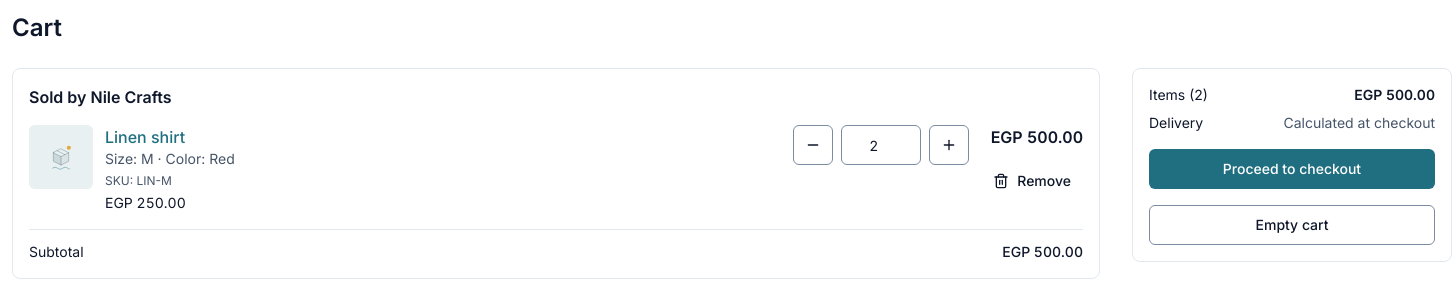
Test case: cart page (spec 01 SF-06) › quantity changes are saved once, 500 ms after the last click
Step 1. Click the button named "Increase quantity, Linen shirt" → (949, 145), box [929,125,969,165]
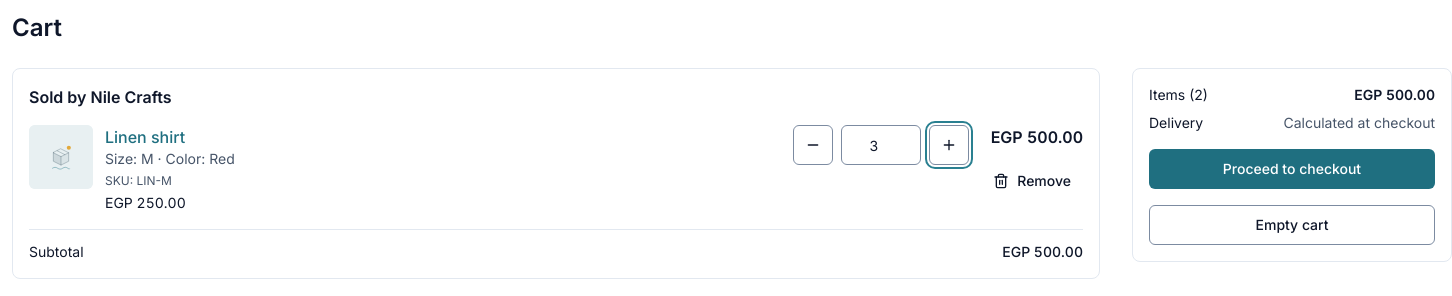
Step 2. Click the button named "Increase quantity, Linen shirt" → (949, 145), box [929,125,969,165]
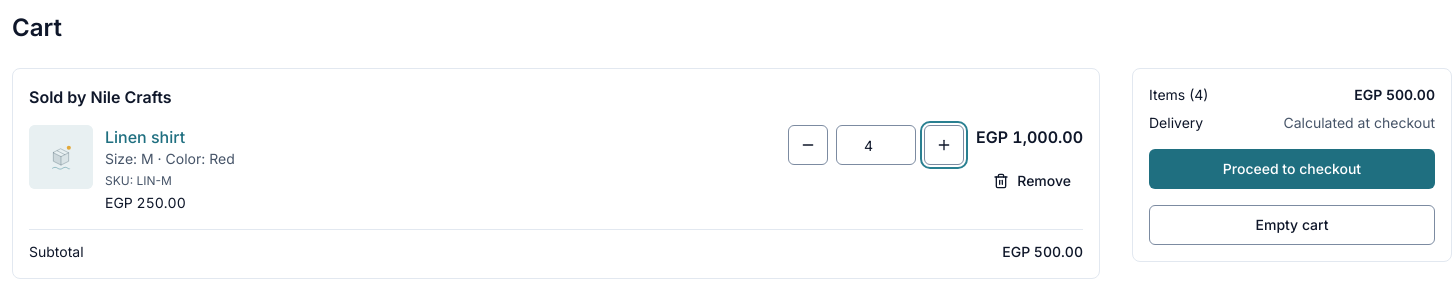
Expected: the text "Items (4)" is shown, [1149,85,1208,105]
